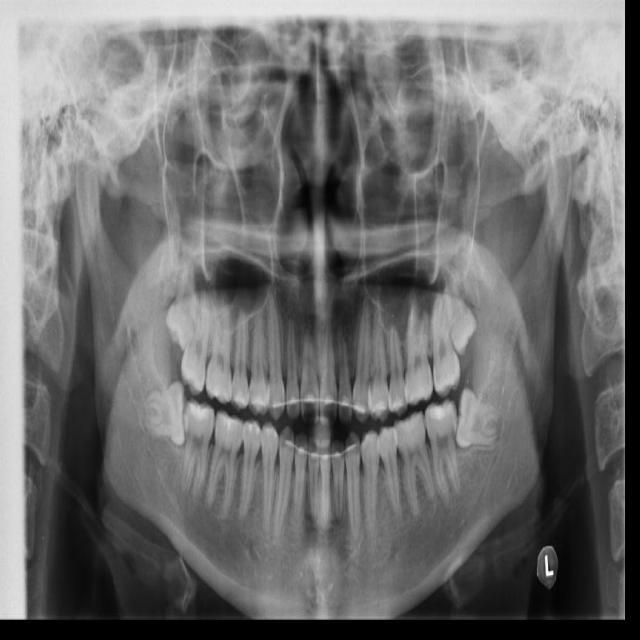3M ESPE Implant: (164, 259, 196, 351)
52: (185, 402, 210, 423), (216, 409, 238, 431), (430, 405, 447, 420), (247, 419, 261, 437)
73: (550, 558, 558, 570)
BioHorizons Implant: (431, 291, 461, 398)
BioLife Implant: (439, 265, 481, 357)
Biomet 3i Implant: (451, 386, 502, 452)
Blue Sky Bio Implant: (421, 397, 473, 499)
Caries: (176, 287, 218, 398)
Implant: (180, 397, 217, 505)
Keystone Dental Implant: (143, 382, 188, 446)
